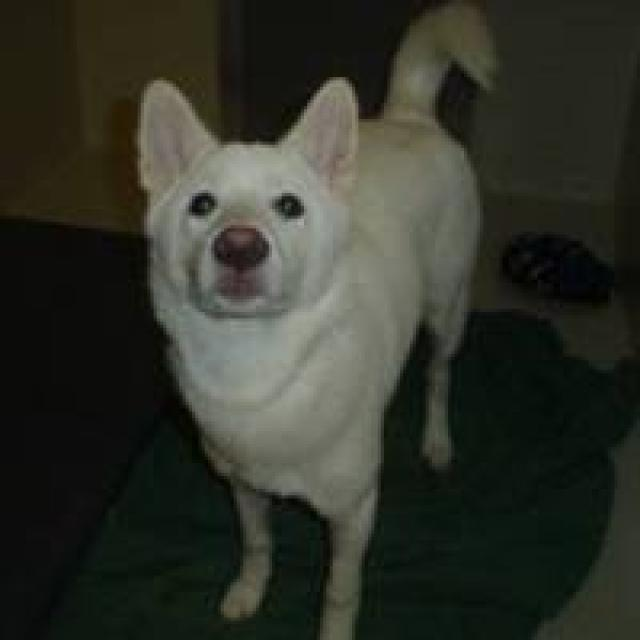dog: (131, 0, 499, 637)
